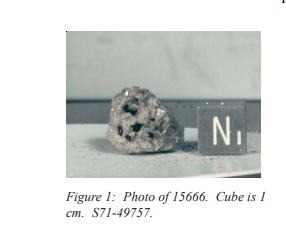Basalt: (93, 74, 185, 167)
